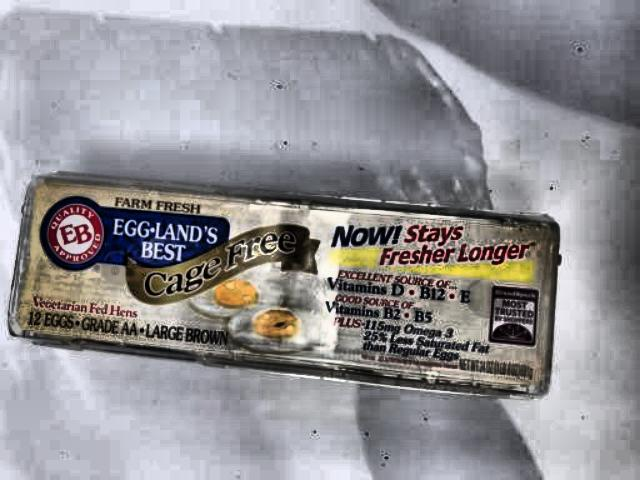Plastic: (9, 156, 578, 424)
